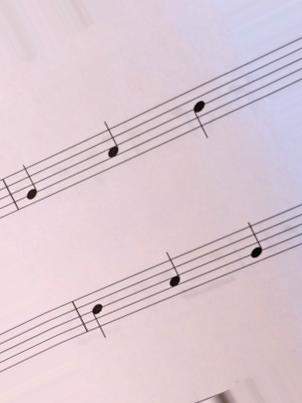note: (189, 84, 213, 143), (95, 119, 122, 170), (239, 219, 265, 268), (87, 290, 111, 343), (16, 161, 43, 207), (159, 250, 183, 301)
